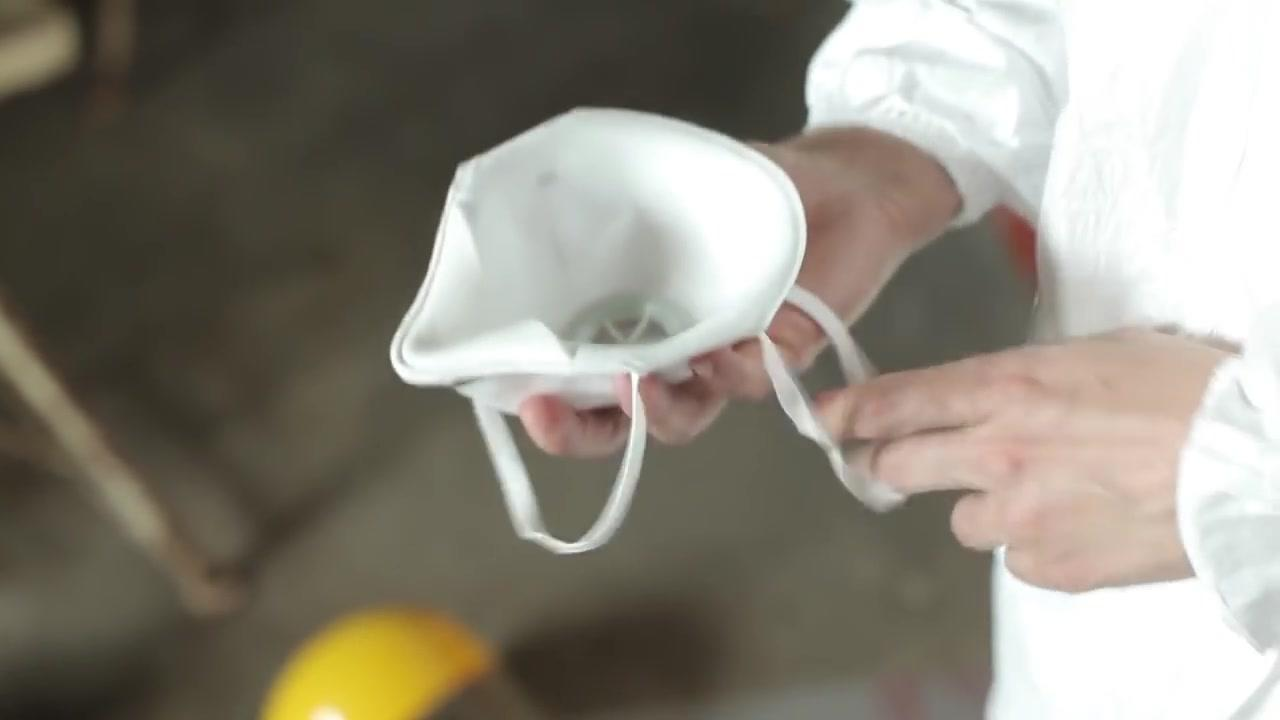Gloves Off: (818, 328, 1228, 592), (760, 128, 960, 320), (642, 342, 768, 444), (522, 398, 625, 458)
Suit On: (808, 4, 1280, 718)
